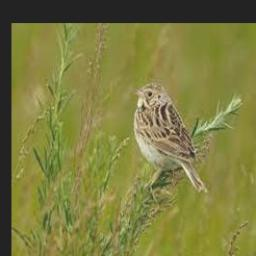Sparrow: (133, 83, 209, 194)
